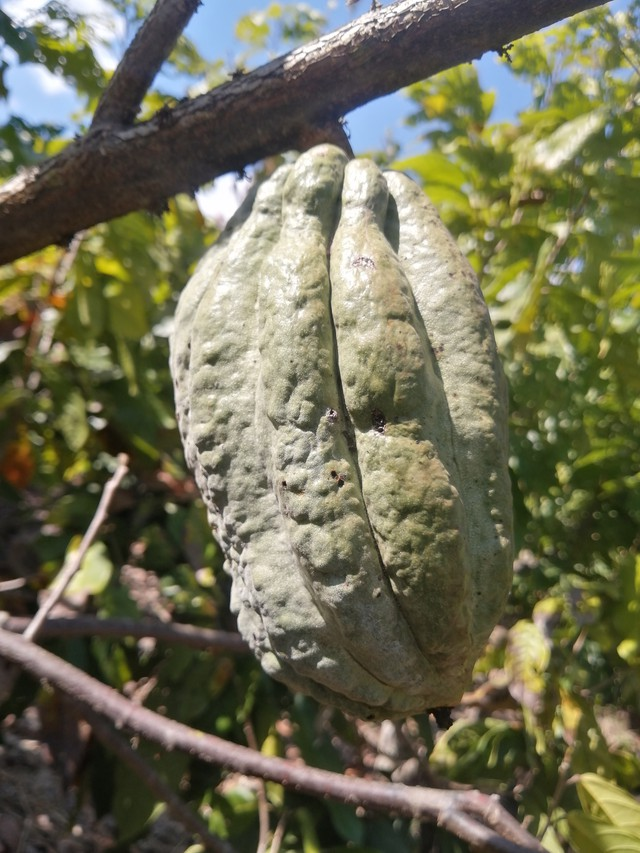Health: (124, 136, 547, 735)
